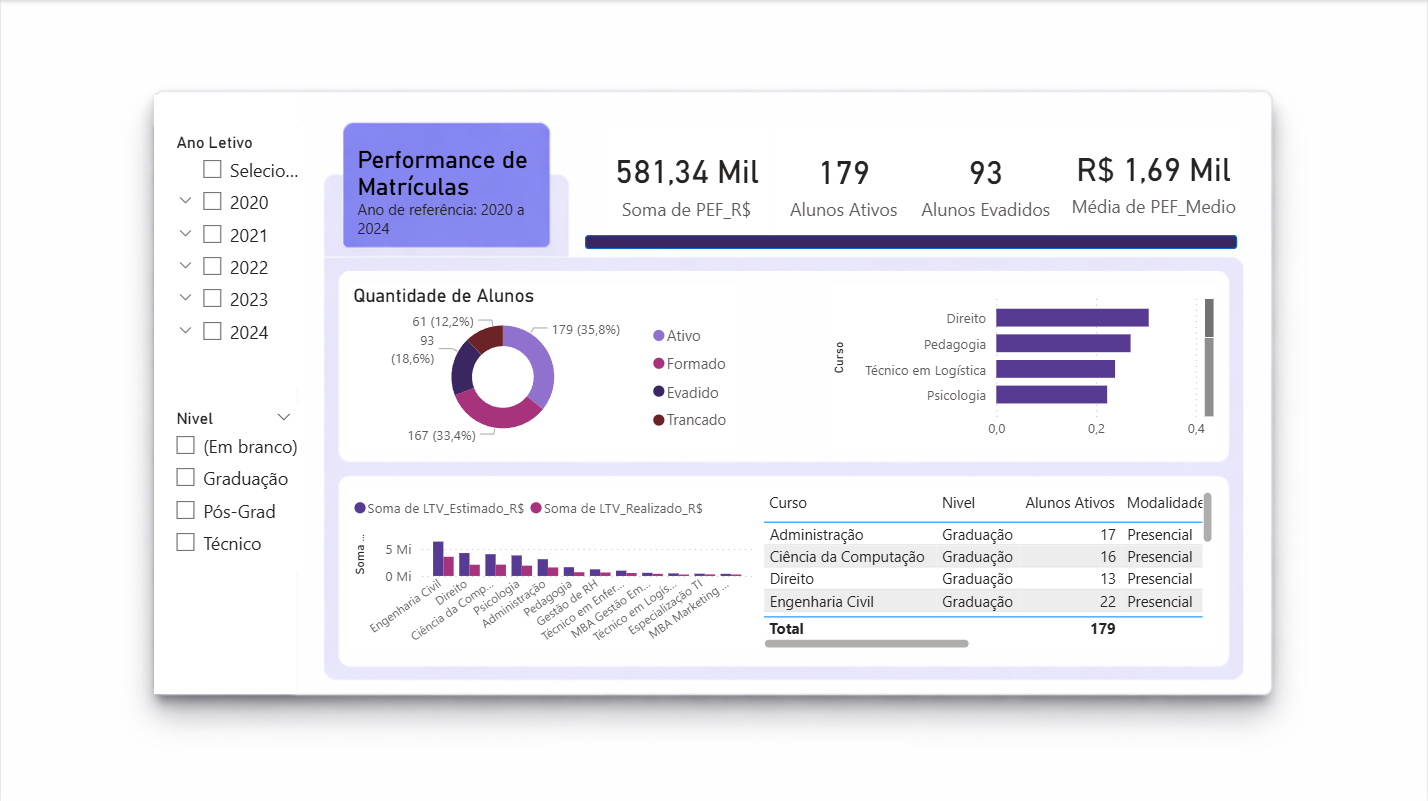

What the dashboard file says about the page in this screenshot:
{"tool":"powerbi","page":{"name":"Skillet","canvas":[1280,720],"ordinal":0},"visuals":[{"type":"card","fields":{"Values":["Base_Matriculas.Alunos Ativos"]},"box":[695.4,115.7,121.6,95.3],"z":0},{"type":"card","fields":{"Values":["Base_Matriculas.Alunos Evadidos"]},"box":[817,111.9,134.2,102.1],"z":1000},{"type":"card","fields":{"Values":["Sum(Base_Matriculas.PEF_R$)"]},"box":[539.8,114.8,151.7,96.3],"z":2000},{"type":"donutChart","title":"Quantidade de Alunos","fields":{"Category":["Base_Matriculas.Status_Matricula"],"Y":["CountNonNull(Base_Matriculas.ID_Aluno)"]},"box":[311.2,254.8,354,147.8],"z":3000},{"type":"clusteredBarChart","fields":{"Category":["Base_Matriculas.Curso"],"Y":["Base_Matriculas.Taxa de Evasão"]},"box":[741.2,254.8,352.1,147.8],"z":4000},{"type":"clusteredColumnChart","fields":{"Category":["Base_Matriculas.Curso"],"Y":["Sum(Base_Matriculas.LTV_Estimado_R$)","Sum(Base_Matriculas.LTV_Realizado_R$)"]},"box":[311.2,436.7,367.7,150.8],"z":5000},{"type":"tableEx","fields":{"Values":["Base_Matriculas.Curso","Base_Matriculas.Nivel","Base_Matriculas.Alunos Ativos","Base_Matriculas.Modalidade","Sum(Evasao_Detalhada.Taxa_Evasao_Pct)","Sum(LTV_e_PEF.PEF_Medio)","Sum(LTV_e_PEF.LTV_Realizado)"]},"box":[678.9,436.7,414.3,150.8],"z":6000},{"type":"textbox","box":[315.1,125.5,173.1,92.4],"z":7000},{"type":"shape","box":[137.1,85.6,128.4,537.9],"z":8000},{"type":"slicer","fields":{"Values":["Base_Matriculas.Ano_Ingresso","Base_Matriculas.Curso"]},"box":[144.9,114.8,128.4,232.5],"z":9000},{"type":"slicer","fields":{"Values":["LTV_e_PEF.Nivel"]},"box":[144.9,362.8,128.4,149.8],"z":10000},{"type":"shape","box":[524.3,211.1,585.5,12.6],"z":11000},{"type":"card","fields":{"Values":["Avg(LTV_e_PEF.PEF_Medio)"]},"box":[951.2,114.8,166.3,92.4],"z":12000}]}

Visuals, with their boxes in screenshot pixels (x1, y1, x2, y2), scaled from the page's 1280x720 canvas onto the 1428x801 screenshot:
card - Base_Matriculas.Alunos Ativos: crop(776, 129, 911, 235)
card - Base_Matriculas.Alunos Evadidos: crop(911, 124, 1061, 238)
card - Sum(Base_Matriculas.PEF_R$): crop(602, 128, 771, 235)
"Quantidade de Alunos" donutChart: crop(347, 283, 742, 448)
clusteredBarChart - Base_Matriculas.Curso x Base_Matriculas.Taxa de Evasão: crop(827, 283, 1220, 448)
clusteredColumnChart - Base_Matriculas.Curso x Sum(Base_Matriculas.LTV_Estimado_R$): crop(347, 486, 757, 654)
tableEx - Base_Matriculas.Curso x Base_Matriculas.Nivel: crop(757, 486, 1220, 654)
textbox: crop(352, 140, 545, 242)
shape: crop(153, 95, 296, 694)
slicer - Base_Matriculas.Ano_Ingresso x Base_Matriculas.Curso: crop(162, 128, 305, 386)
slicer - LTV_e_PEF.Nivel: crop(162, 404, 305, 570)
shape: crop(585, 235, 1238, 249)
card - Avg(LTV_e_PEF.PEF_Medio): crop(1061, 128, 1247, 231)
